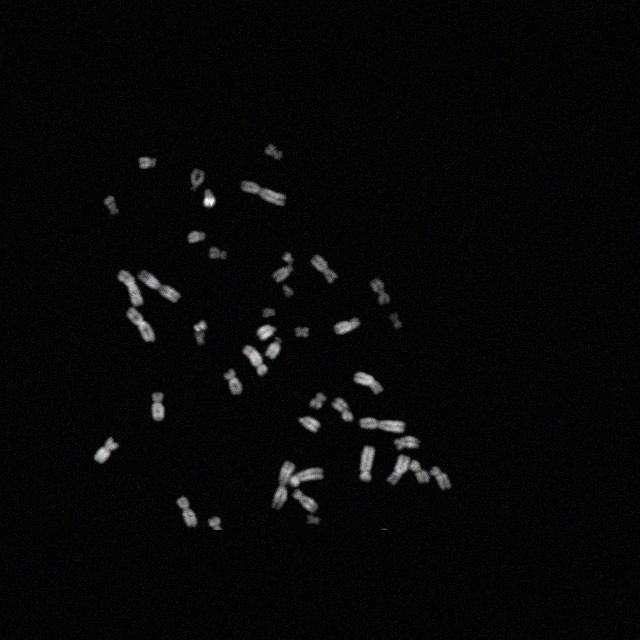chromosome: (138, 270, 180, 302), (240, 180, 286, 208), (272, 460, 294, 510), (125, 306, 155, 342), (116, 270, 142, 306), (94, 436, 120, 464), (243, 345, 267, 375), (353, 372, 383, 396), (388, 454, 410, 486), (290, 466, 324, 486), (312, 254, 336, 282), (360, 418, 406, 432), (177, 497, 197, 527), (292, 491, 318, 514), (360, 446, 374, 482), (431, 466, 451, 490), (371, 279, 389, 305), (224, 369, 242, 395), (333, 398, 353, 420), (334, 318, 360, 334), (411, 460, 429, 482), (394, 437, 420, 451), (298, 417, 320, 433), (152, 392, 164, 420), (308, 392, 326, 410), (273, 266, 293, 282), (265, 339, 281, 359), (258, 324, 276, 340), (190, 170, 203, 192), (265, 145, 283, 159), (104, 196, 118, 214), (188, 230, 206, 243), (203, 189, 215, 207), (138, 157, 156, 169), (210, 247, 227, 259), (193, 319, 207, 331), (391, 314, 401, 328), (195, 332, 205, 346), (282, 253, 294, 264), (282, 286, 294, 296), (263, 308, 275, 318), (296, 327, 308, 337), (307, 516, 319, 524)
